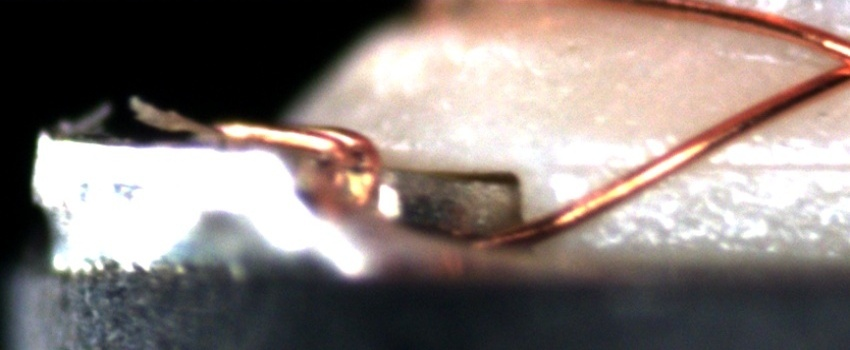DL: (553, 139, 849, 198)
TE: (205, 121, 389, 190)
